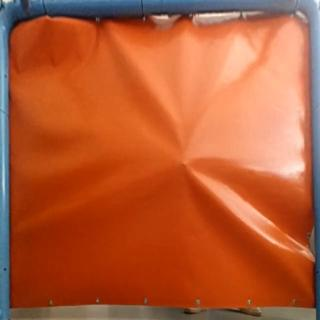Hit-hRxx: (177, 158, 193, 172)
